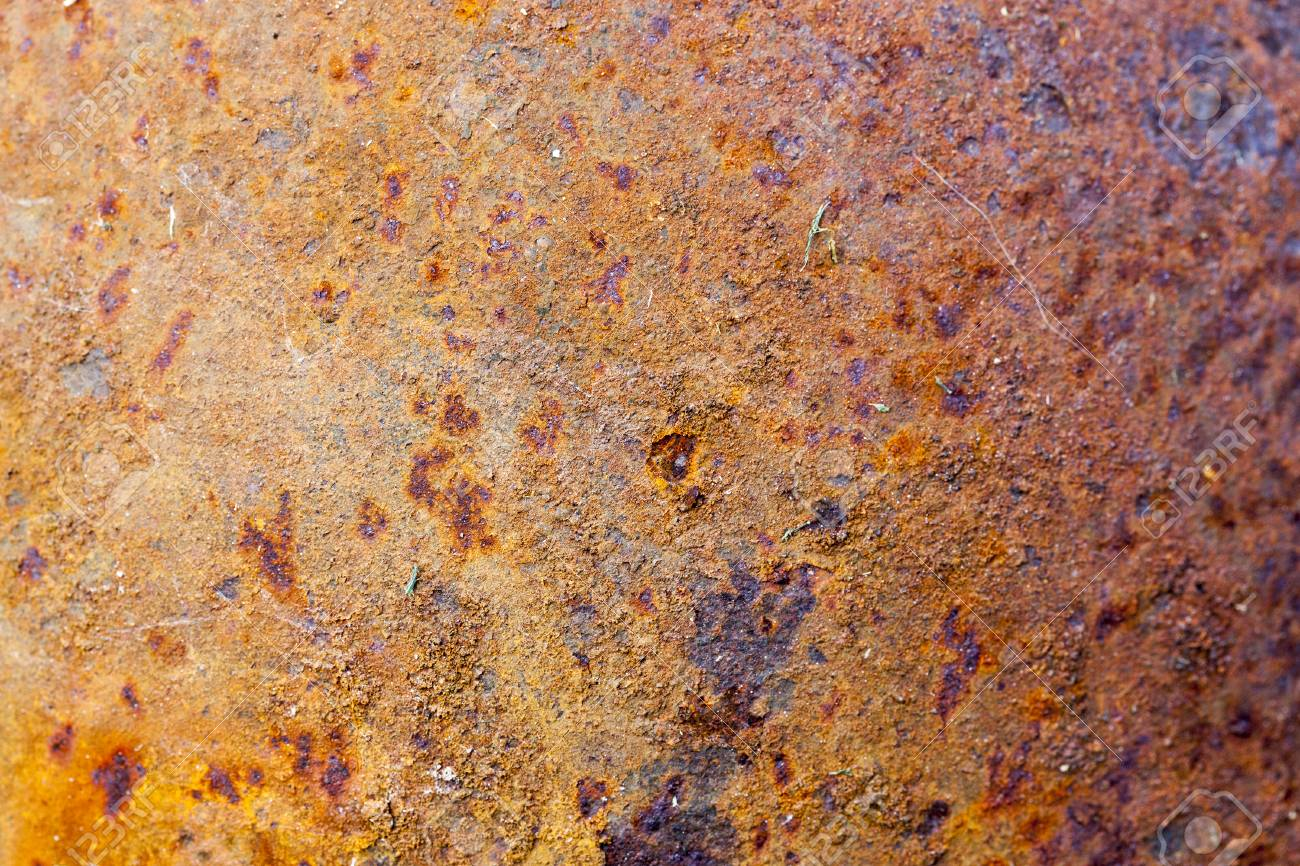rust: (14, 10, 1294, 866)
